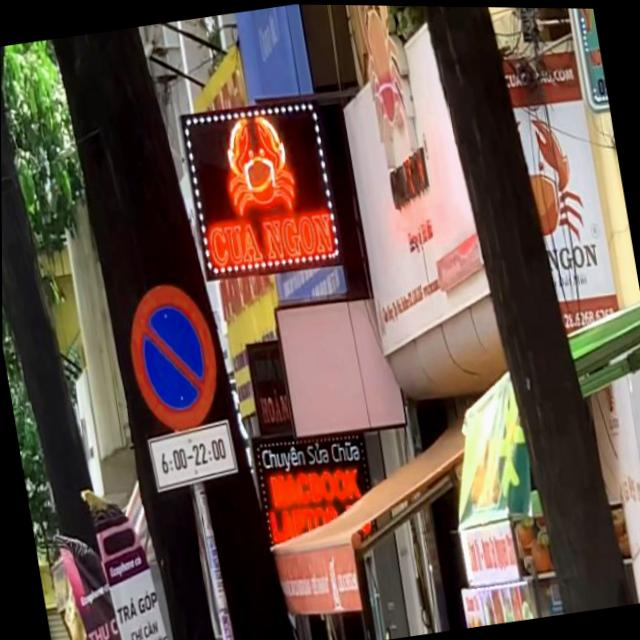Cam do xe: (120, 277, 227, 436)
